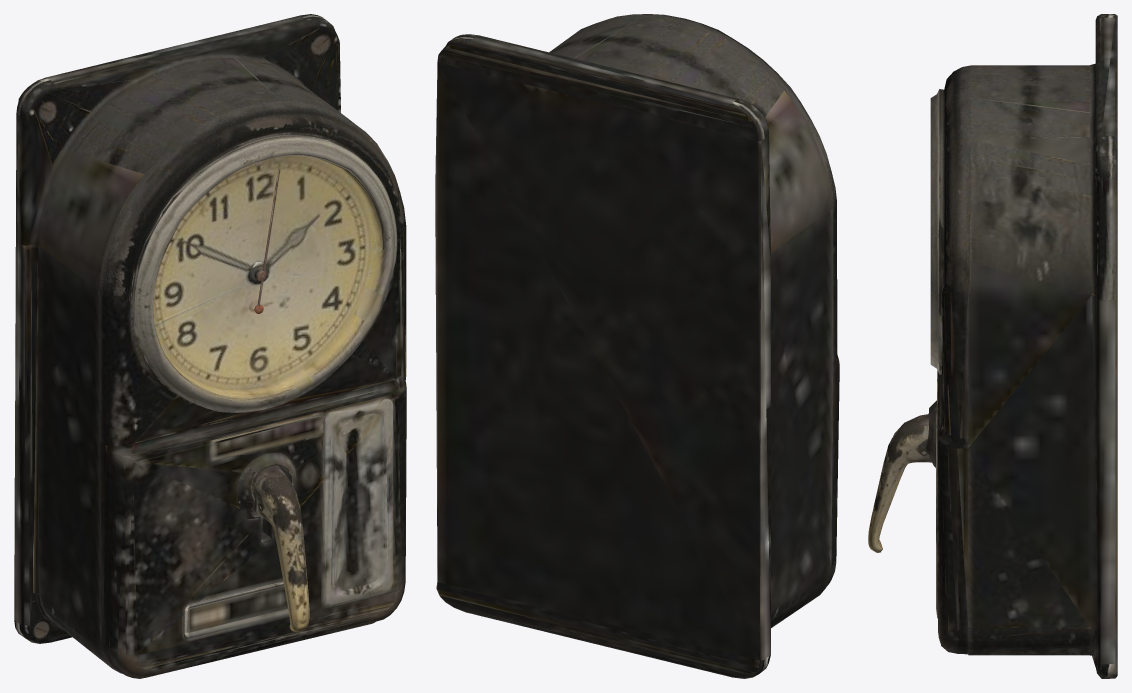
File: prop_time_clock.glb
3 views of the same model, side by side, from view 1: azimuth 30°, elevation 25°; view 2: azimuth 150°, elevation 25°; view 3: azimuth 270°, elevation 25° (orthographic). The views are drawn at different scales.
Bounding box in the file's own units: 0.5698 × 0.9502 × 0.4009.
1 material, 1 textured.
